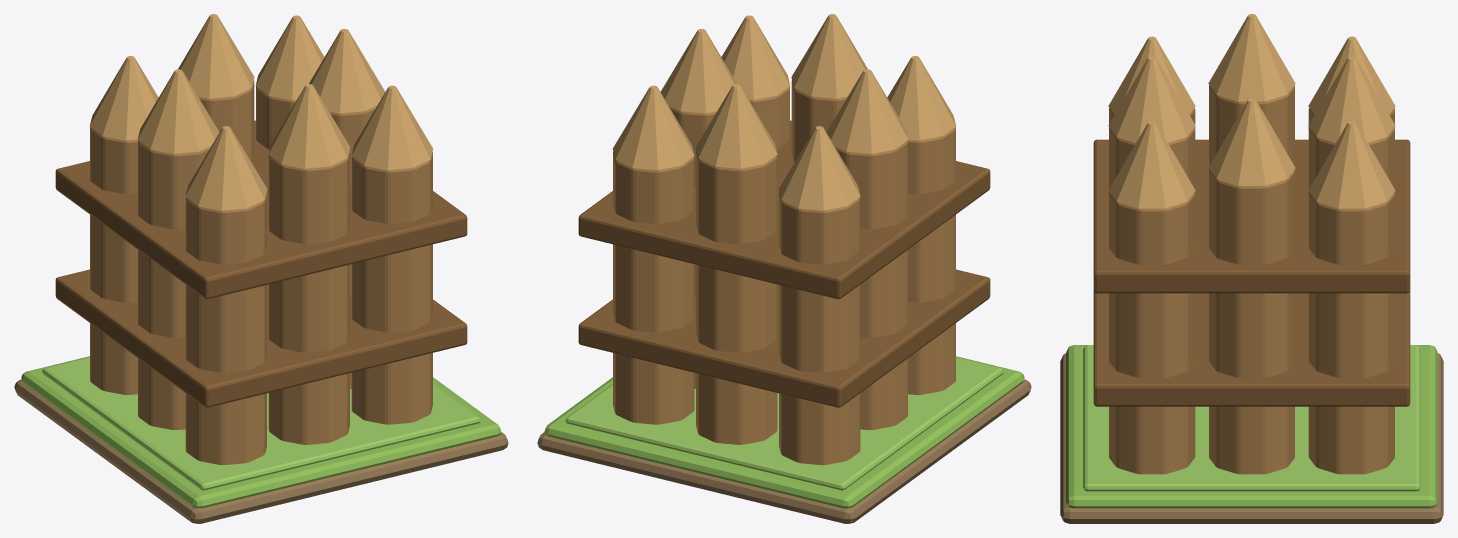
The model's file is wall.glb.
The picture shows the model from 3 angles, left to right: view 1: azimuth 30°, elevation 25°; view 2: azimuth 150°, elevation 25°; view 3: azimuth 270°, elevation 25°; orthographic projection. The views are drawn at different scales.
Visible parts, largest first — view 1: Log_0_-1, Log_-1_-1, RopeBand_0.54, Log_1_-1, RopeBand_0.24, Base_Inner, Base_Grass, Log_-1_0, Log_-1_1, Base_Dirt, LogTip_1_-1, LogTip_-1_-1 (+9 smaller); view 2: Log_0_1, Log_-1_1, RopeBand_0.54, Log_1_1, RopeBand_0.24, Base_Inner, Base_Grass, Log_-1_0, Log_-1_-1, Base_Dirt, LogTip_1_1, LogTip_-1_1 (+9 smaller); view 3: Log_1_0, RopeBand_0.54, Log_1_1, Log_1_-1, RopeBand_0.24, Base_Inner, Base_Grass, Base_Dirt, LogTip_1_1, LogTip_1_-1, LogTip_1_0, LogTip_-1_0 (+7 smaller).
Boxes of the visible parts, x1,y1,x2,y2 form: Log_0_-1: (268,150,349,444); Log_-1_-1: (185,192,266,465); RopeBand_0.54: (55,120,467,299); Log_1_-1: (351,152,432,424); RopeBand_0.24: (55,269,467,407); Base_Inner: (42,357,480,490); Base_Grass: (21,356,501,508); Log_-1_0: (138,140,211,429); Log_-1_1: (90,127,137,394); Base_Dirt: (14,379,508,523); LogTip_1_-1: (351,85,433,169); LogTip_-1_-1: (185,126,267,210); Log_0_1: (696,150,777,444); Log_-1_1: (779,192,860,465); RopeBand_0.54: (578,120,990,299); Log_1_1: (613,152,694,424); RopeBand_0.24: (578,269,990,407); Base_Inner: (565,357,1003,490); Base_Grass: (544,356,1024,508); Log_-1_0: (834,140,907,429); Log_-1_-1: (908,127,955,394); Base_Dirt: (537,379,1031,523); LogTip_1_1: (612,85,694,169); LogTip_-1_1: (778,126,860,210); Log_1_0: (1209,170,1294,474); RopeBand_0.54: (1093,139,1410,293); Log_1_1: (1308,192,1394,474); Log_1_-1: (1109,192,1195,474); RopeBand_0.24: (1093,290,1410,406); Base_Inner: (1083,345,1420,491); Base_Grass: (1066,345,1437,508); Base_Dirt: (1060,353,1443,523); LogTip_1_1: (1308,121,1395,208); LogTip_1_-1: (1108,121,1195,208); LogTip_1_0: (1208,98,1295,185); LogTip_-1_0: (1208,14,1295,101).
Size of the model in its own units: 0.92 by 1.03 by 0.92.
